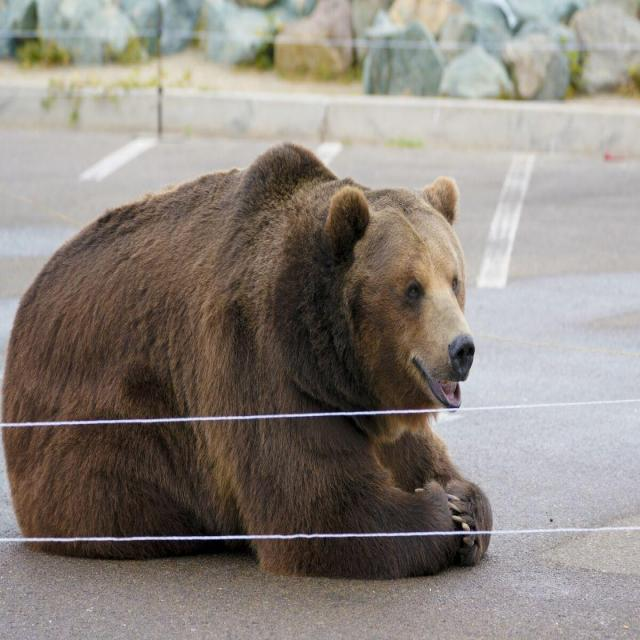Bear: (0, 145, 493, 582)
